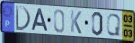0: (91, 12, 104, 37), (53, 9, 66, 34)
A: (31, 8, 50, 33)
D: (15, 5, 32, 33)
K: (70, 9, 82, 35)
Q: (106, 13, 122, 38)
